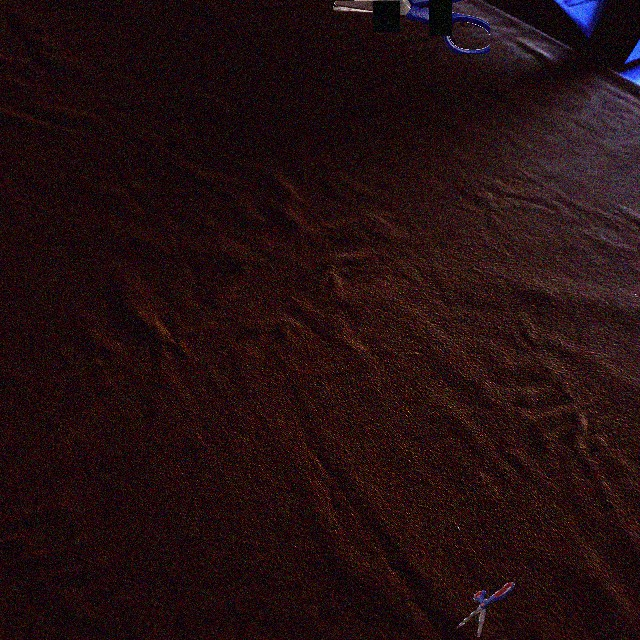scissors: (333, 0, 490, 54), (457, 581, 521, 637)
